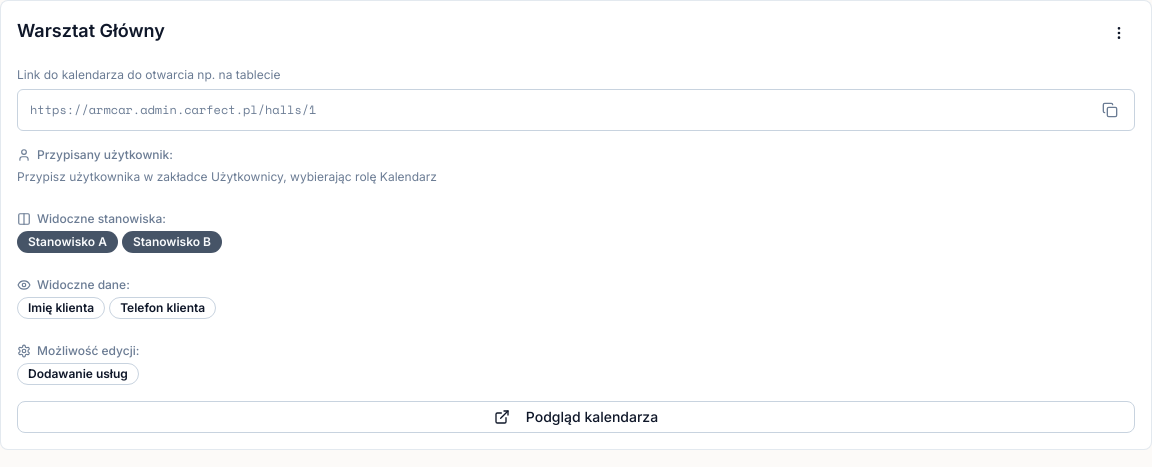
Test case: HallCard › edit and delete callbacks › calls onEdit with the hall when edit menu item is clicked
This screenshot has width=1152, height=467.
Later steps or results of the test are not shown.
Click the button without text in the row of "Warsztat Główny" at (1119, 33), box [1103,17,1135,49]
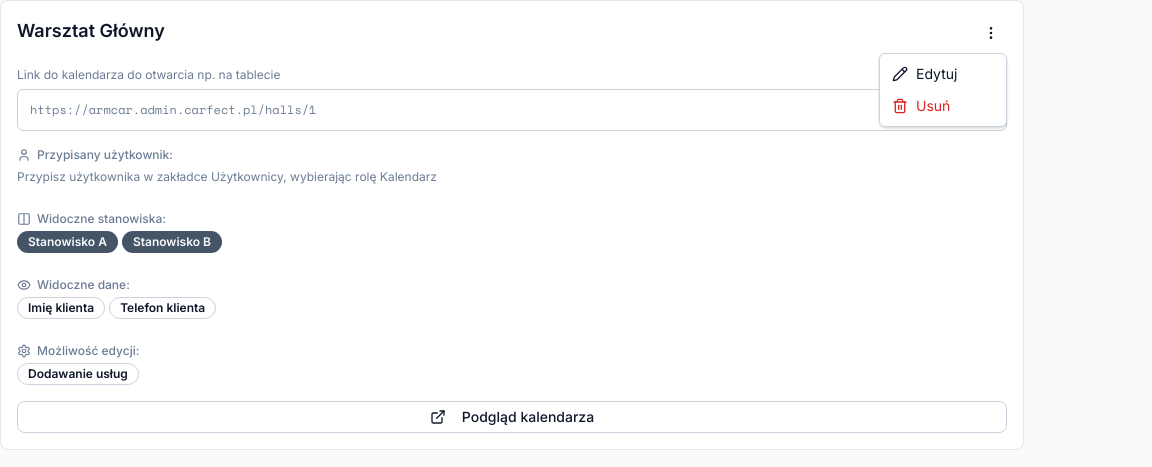
Now the menu item "Edytuj" is shown, box [884,58,1002,90]
